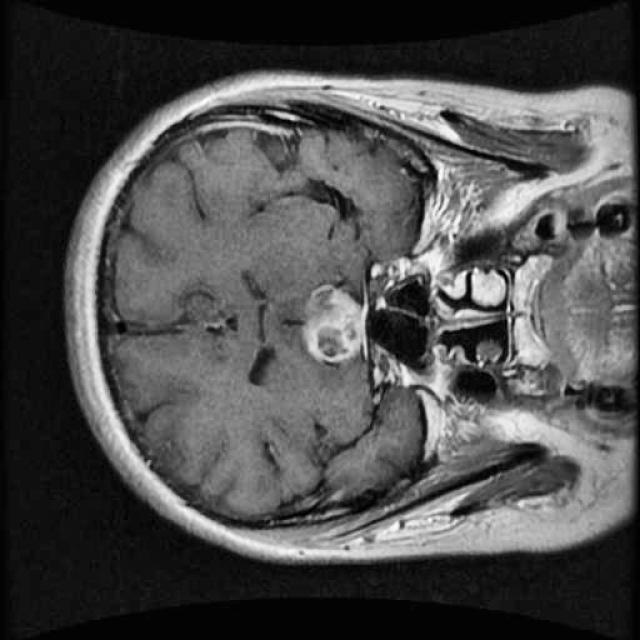Tumor: (295, 275, 371, 378)
